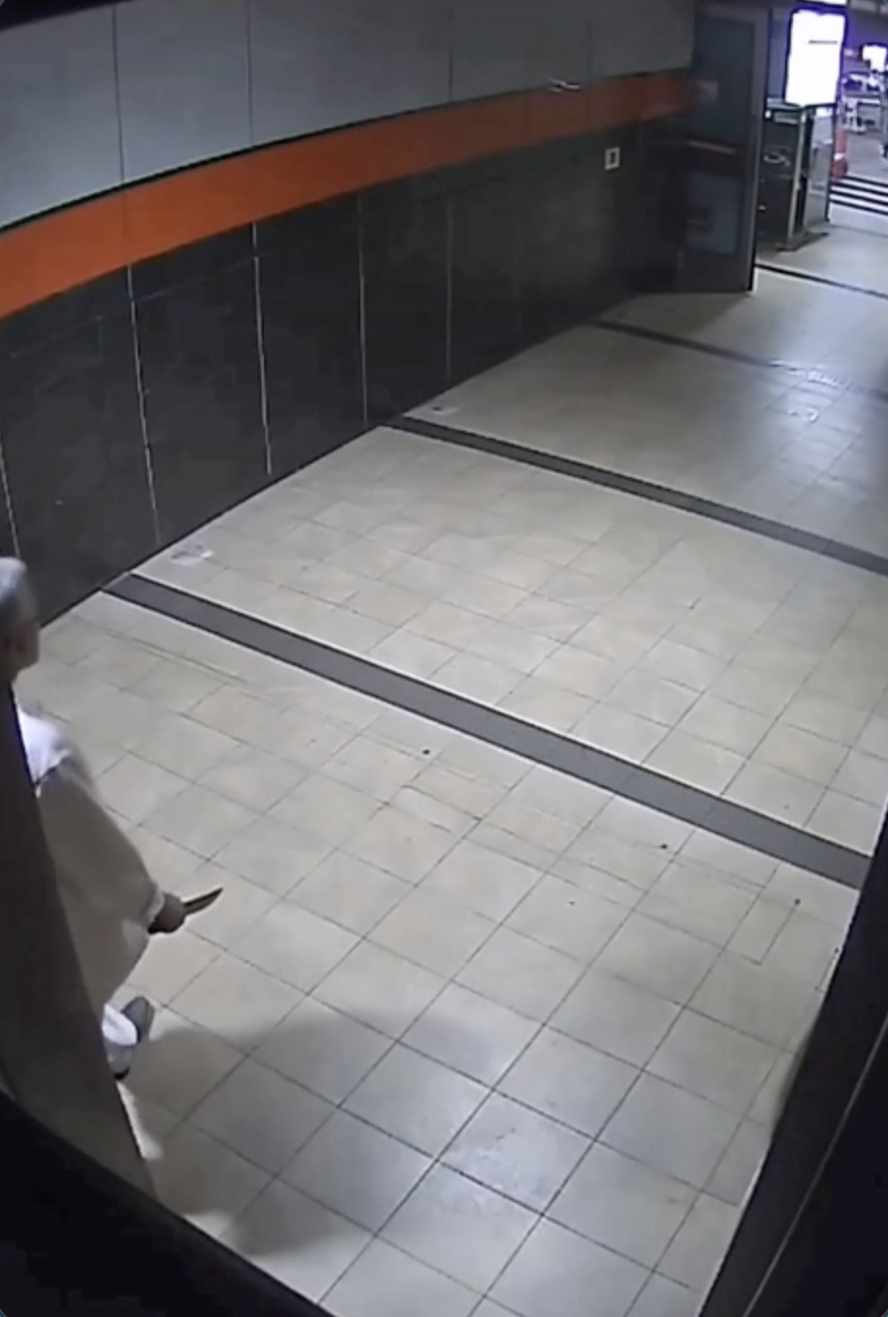Heavy Gun: (1, 550, 156, 1081)
Knife: (137, 874, 229, 939)
